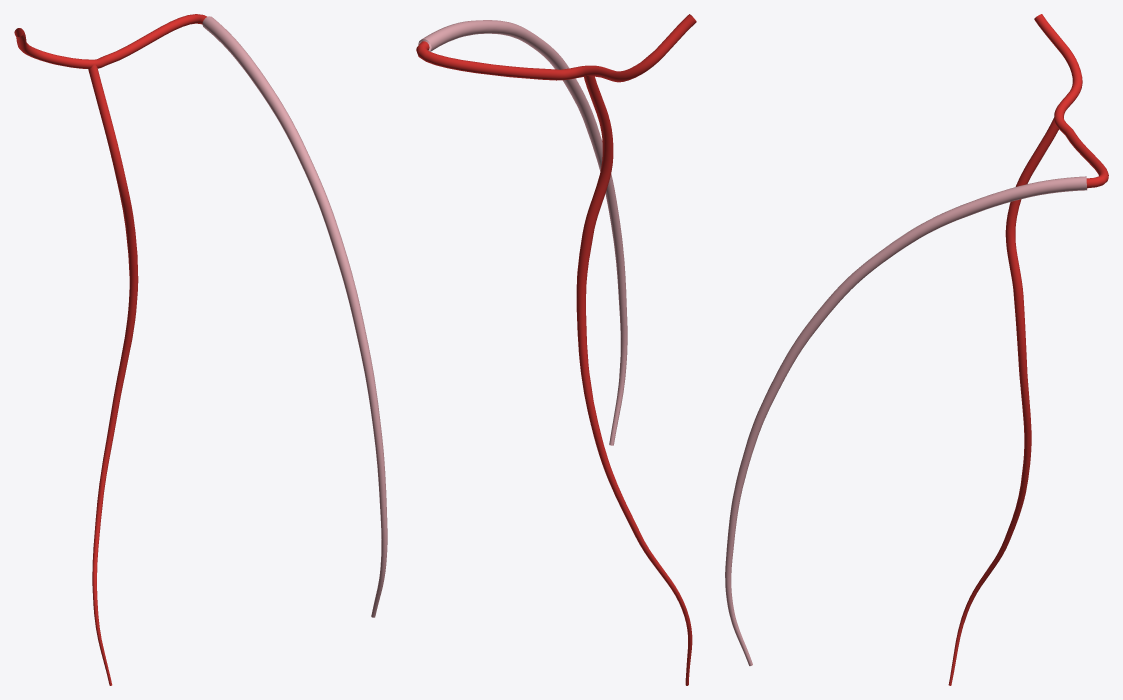
Rendered from circulatorio-external-pudendal-veins-r.glb.
3 views of the same model, side by side, from view 1: azimuth 30°, elevation 25°; view 2: azimuth 150°, elevation 25°; view 3: azimuth 270°, elevation 25° (orthographic). The views are drawn at different scales.
Parts seen in each view (by area): view 1: External pudendal veins.r, Superficial dorsal veins of penis; view 2: External pudendal veins.r, Superficial dorsal veins of penis; view 3: Superficial dorsal veins of penis, External pudendal veins.r.
Part boxes in pixels (x1=…): External pudendal veins.r: x1=14, y1=14, x2=207, y2=685; Superficial dorsal veins of penis: x1=202, y1=16, x2=387, y2=617; External pudendal veins.r: x1=416, y1=14, x2=696, y2=685; Superficial dorsal veins of penis: x1=418, y1=20, x2=627, y2=445; Superficial dorsal veins of penis: x1=725, y1=176, x2=1087, y2=665; External pudendal veins.r: x1=948, y1=14, x2=1108, y2=685.
Size of the model in its own units: 0.0372 by 0.1018 by 0.0546.
